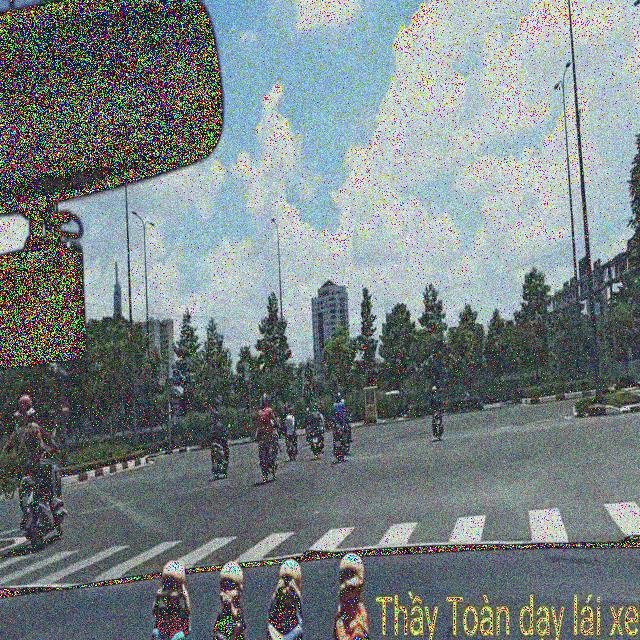Cấm các phương tiện hoạt động trong khung giờ cố định: (157, 358, 167, 387)
Cấm đi ngược chiều: (59, 395, 70, 420)
